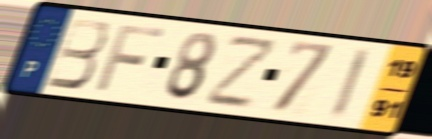7: (269, 38, 338, 116)
8: (162, 30, 219, 104)
B: (43, 16, 110, 92)
F: (92, 22, 168, 94)
I: (326, 46, 374, 123)
Z: (203, 35, 282, 110)
